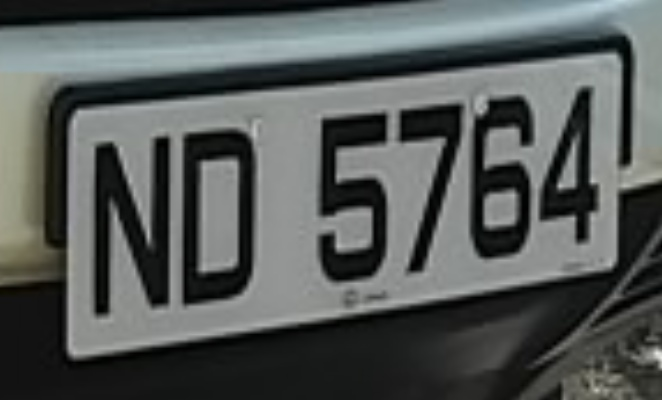4: (530, 71, 607, 262)
5: (305, 103, 399, 302)
6: (463, 79, 541, 285)
7: (389, 91, 472, 283)
D: (170, 116, 263, 319)
N: (87, 117, 179, 338)
